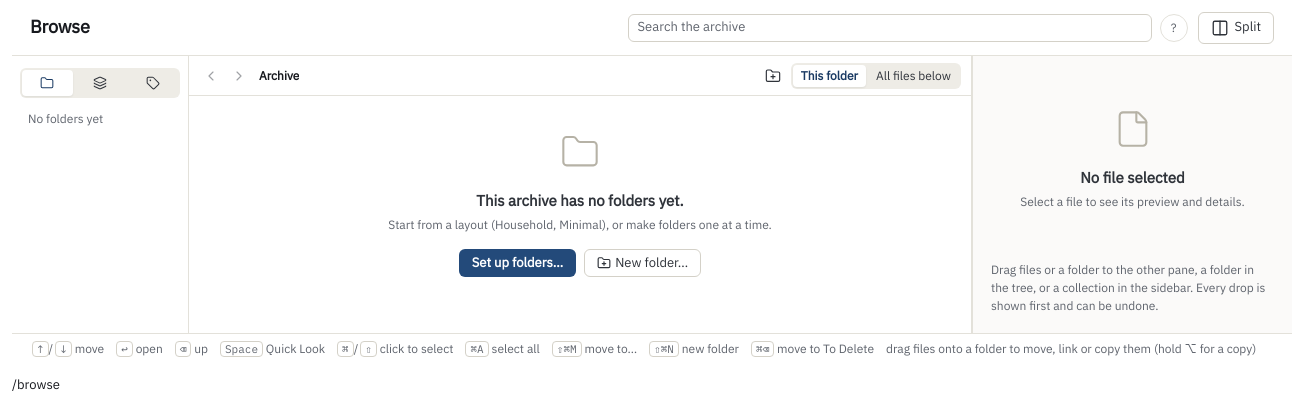
Scenario: Browse with tags › suggests matching tags while typing; picking one makes a chip and removes the word
Type "Kela med" into the dropdown labelled "Search".
click(890, 28); type("Kela med")  # box [628,14,1152,42]
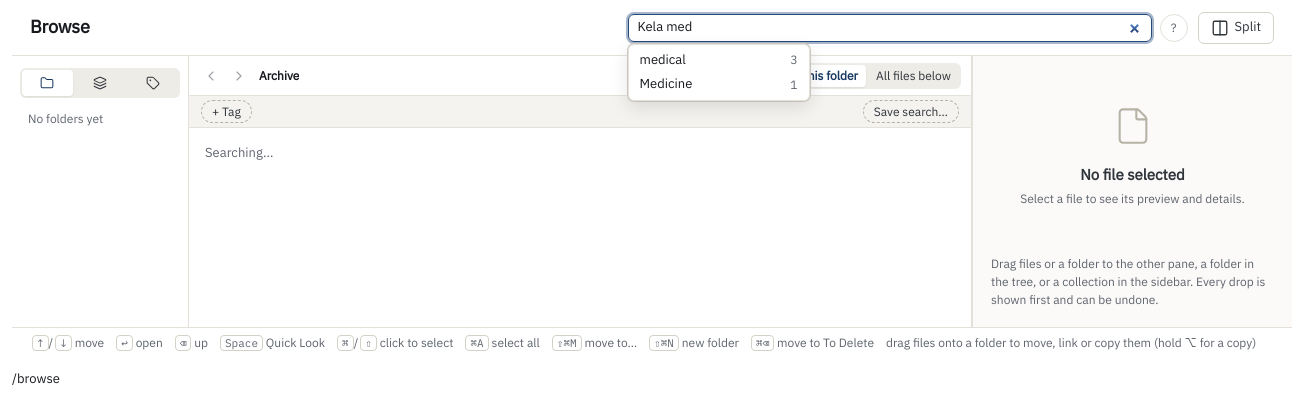
Check: the options read "medical3", "Medicine1", in this order
Click the option "medical 3".
click(663, 59)  # box [632,48,806,72]
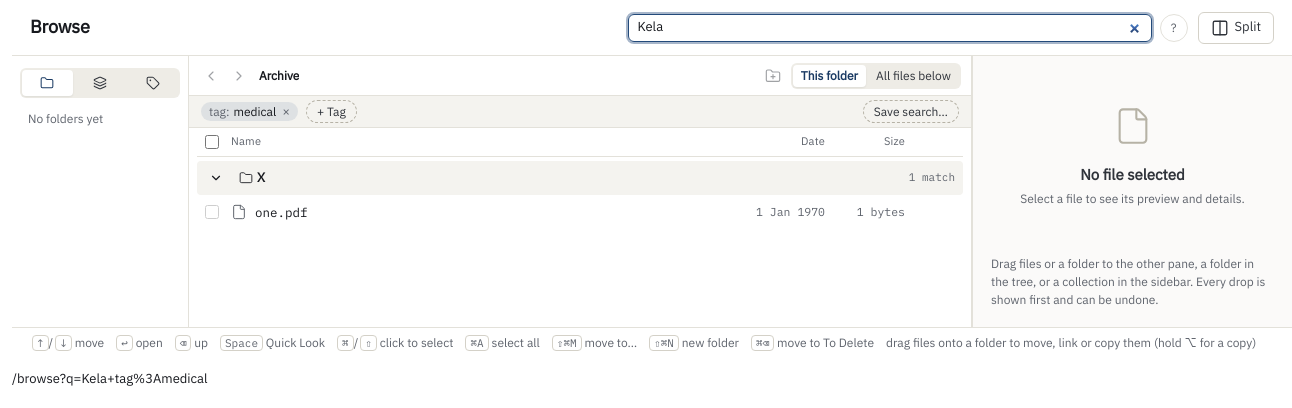
Check: the text with test id "where" reads "/browse?q=Kela+tag%3Amedical", box [12,370,208,387]
Check: the dropdown named "Search" holds "Kela ", box [628,14,1152,42]
